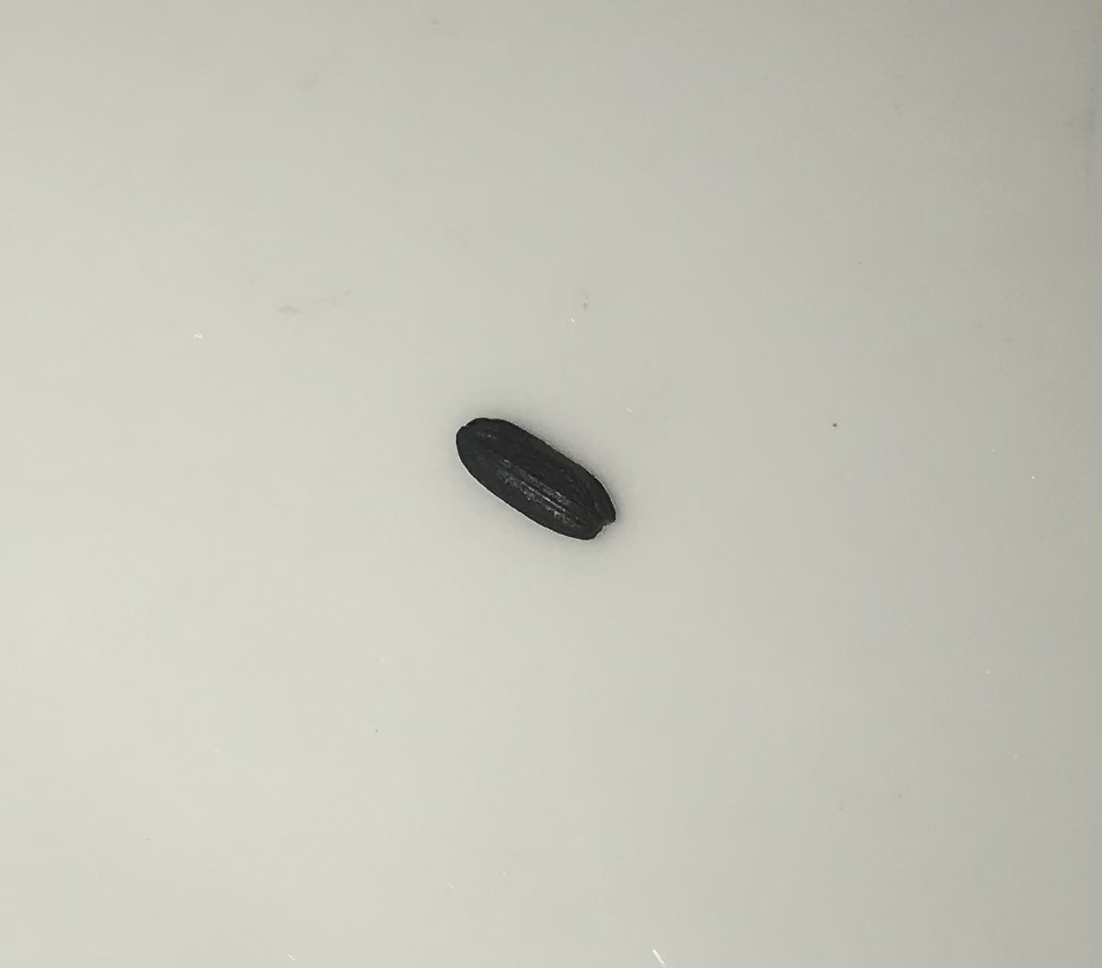Gao Nep Cam: (442, 406, 628, 554)
